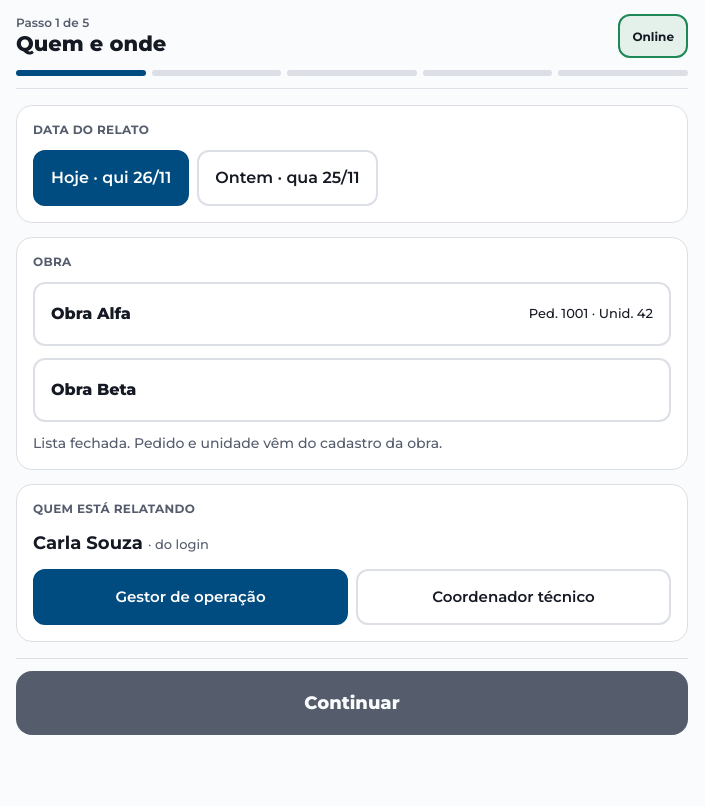
Diário de obra › caminho rápido: obra, etapa em andamento com foto, equipe e envio
The image size is (705, 806).
Later steps or results of the test are not shown.
Expected: the heading "Quem e onde" is shown, [16, 31, 166, 56]
Expected: the text "Carla Souza" is shown, [33, 532, 143, 554]
Click the button "Continuar" at (352, 703), box [16, 671, 688, 735]
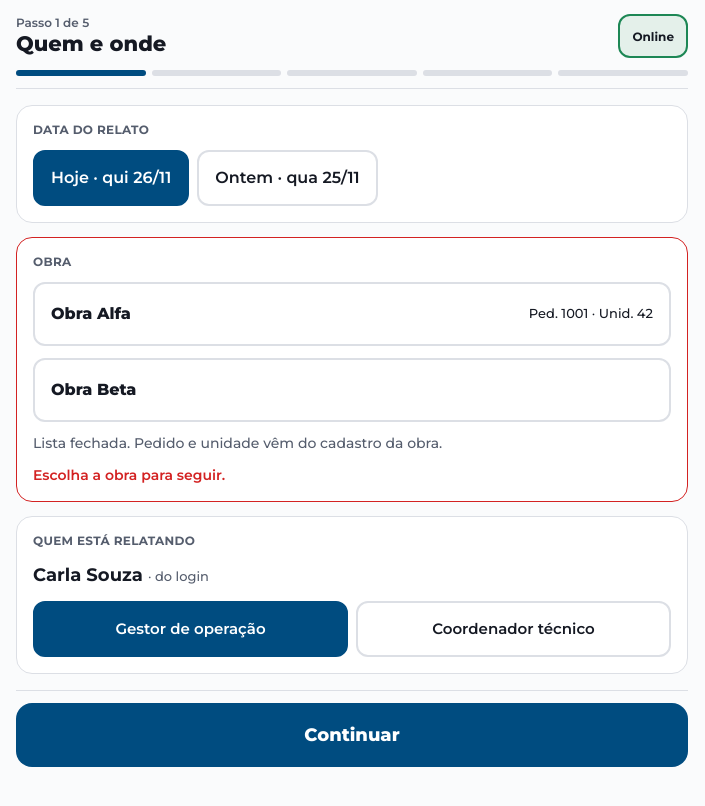
Expected: the text "Escolha a obra para seguir." is shown, [33, 466, 225, 484]
Click the button "Obra Alfa Ped. 1001 · Unid. 42" at (91, 314), box [33, 282, 671, 346]
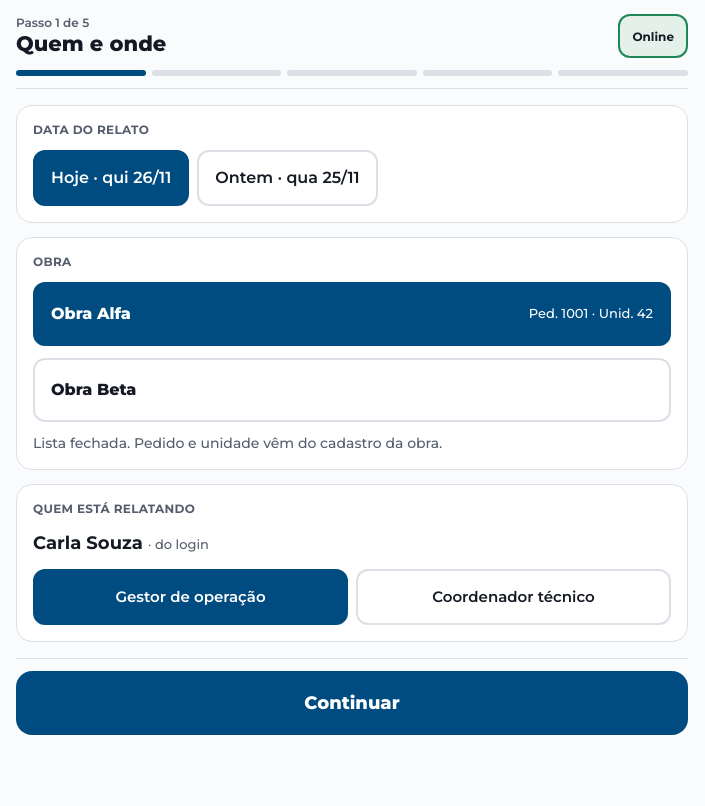
Expected: the text "Ped. 1001 · Unid. 42" is shown, [529, 304, 653, 324]
Click the button "Continuar" at (352, 703), box [16, 671, 688, 735]
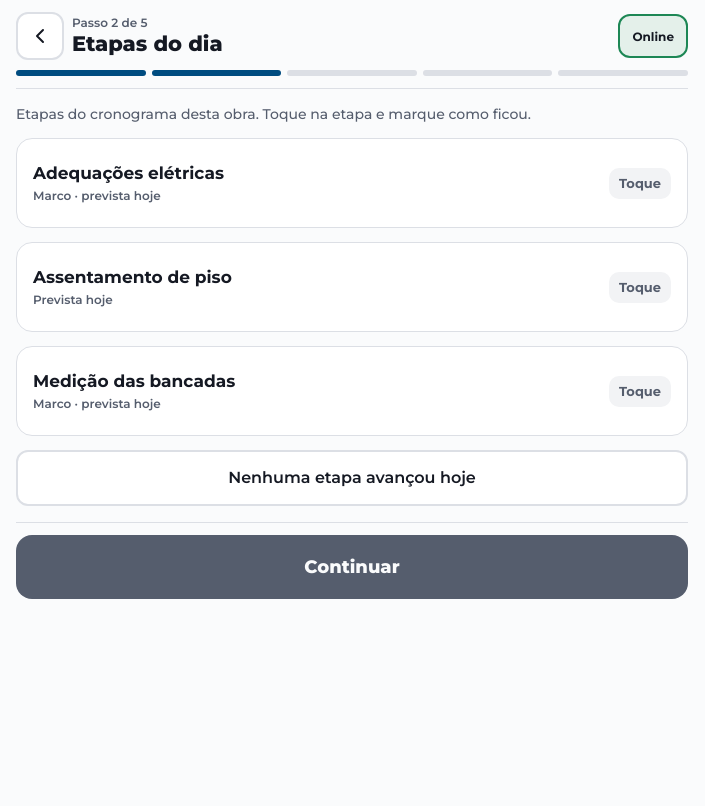
Expected: the heading "Etapas do dia" is shown, [72, 31, 223, 56]
Click the button "Assentamento de piso Prevista hoje Toque" at (132, 277), box [33, 259, 671, 315]
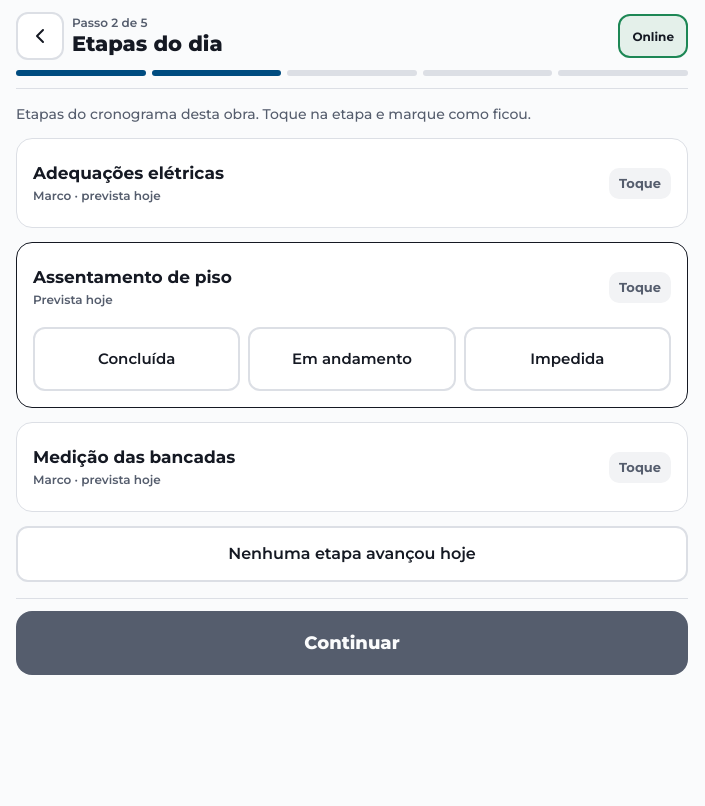
Click the button "Em andamento" at (352, 359), box [248, 327, 456, 391]
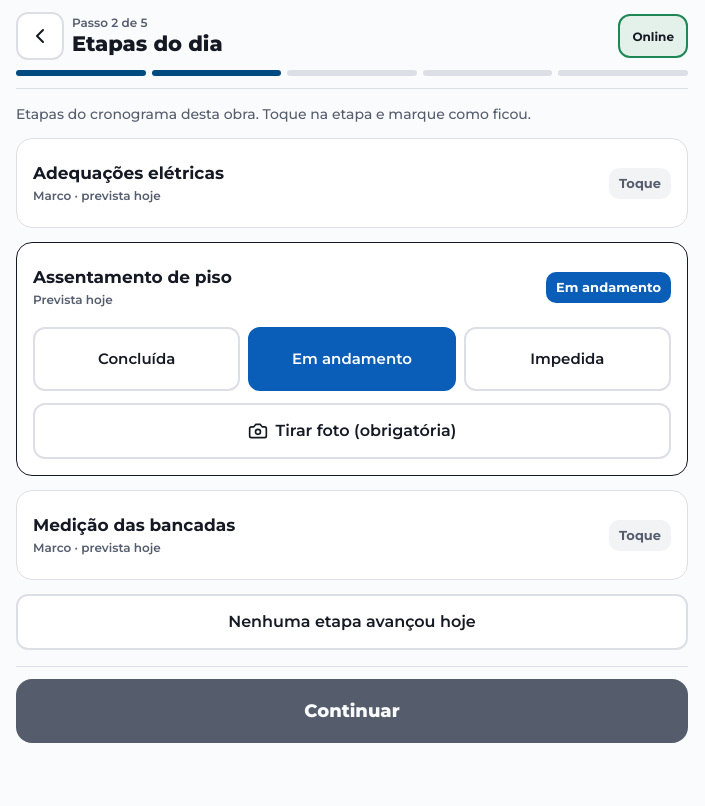
Click the button "Continuar" at (352, 711), box [16, 679, 688, 743]
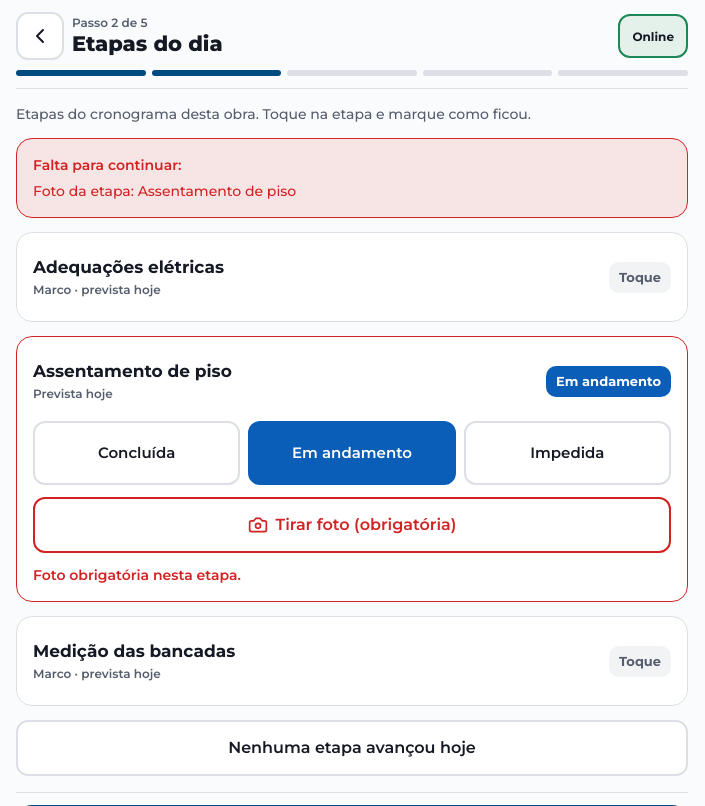
Expected: the text "Foto da etapa: Assentamento de piso" is shown, [33, 182, 296, 200]
